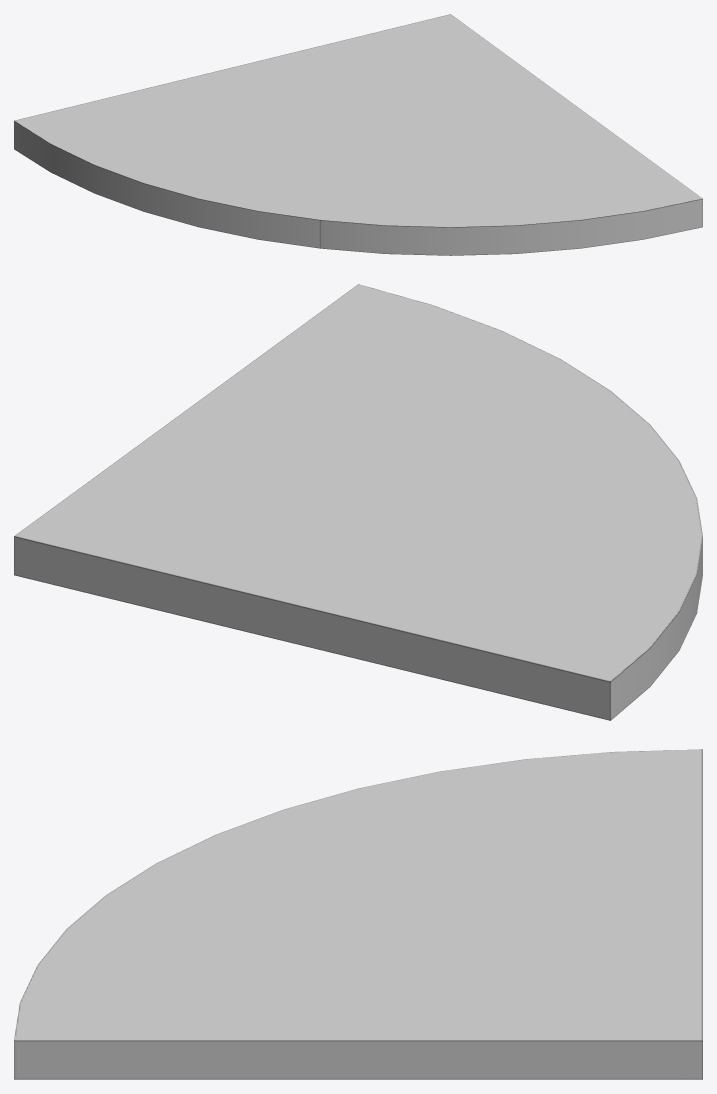
Rendered from Roof_Angle_01.FBX.
The picture shows the model from 3 angles, top to bottom: view 1: azimuth 30°, elevation 25°; view 2: azimuth 150°, elevation 25°; view 3: azimuth 270°, elevation 25°; orthographic projection. The views are drawn at different scales.
Visible parts, largest first — view 1: Roof_Angle_01; view 2: Roof_Angle_01; view 3: Roof_Angle_01.
Part boxes in pixels (x1,y1,x2,y2): Roof_Angle_01: (14,14,702,255); Roof_Angle_01: (14,284,702,720); Roof_Angle_01: (14,749,702,1079).
Size of the model in its own units: 8 by 0.5 by 8.
